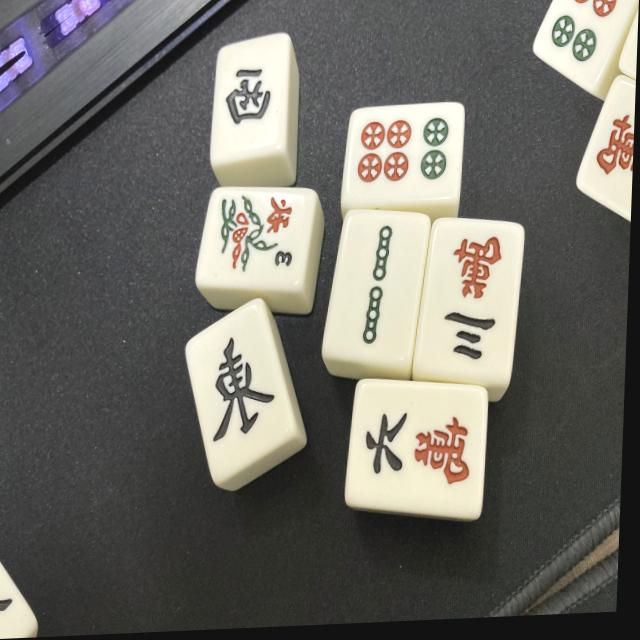east: (182, 298, 299, 482)
ff3: (198, 189, 312, 298)
m3: (410, 218, 523, 383)
m6: (348, 386, 486, 523)
s2: (322, 207, 429, 373)
t6: (344, 105, 463, 210), (532, 0, 640, 94)
west: (214, 35, 292, 157)
